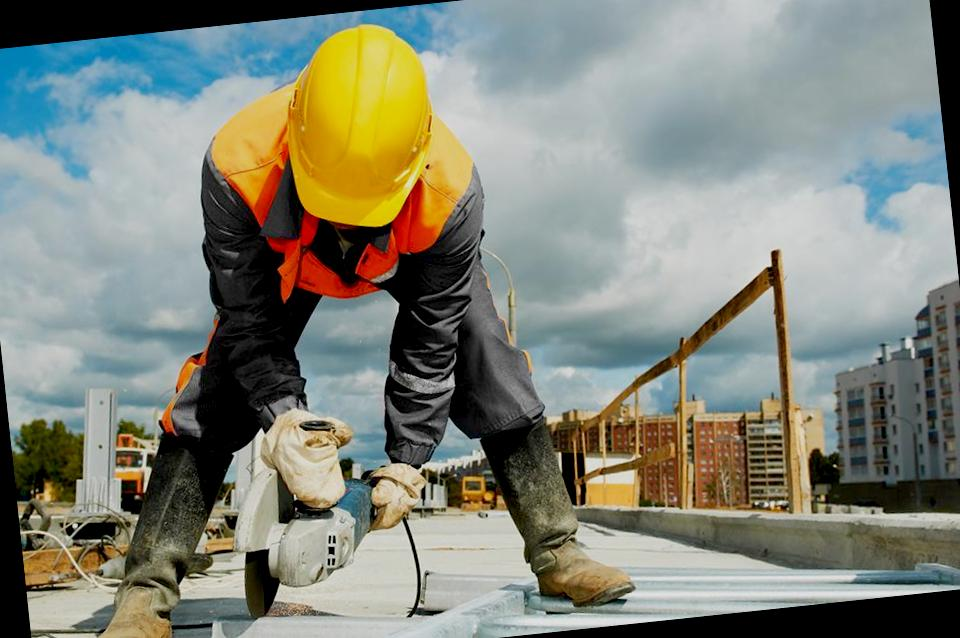helmet: (270, 18, 454, 251)
person: (31, 10, 622, 638)
